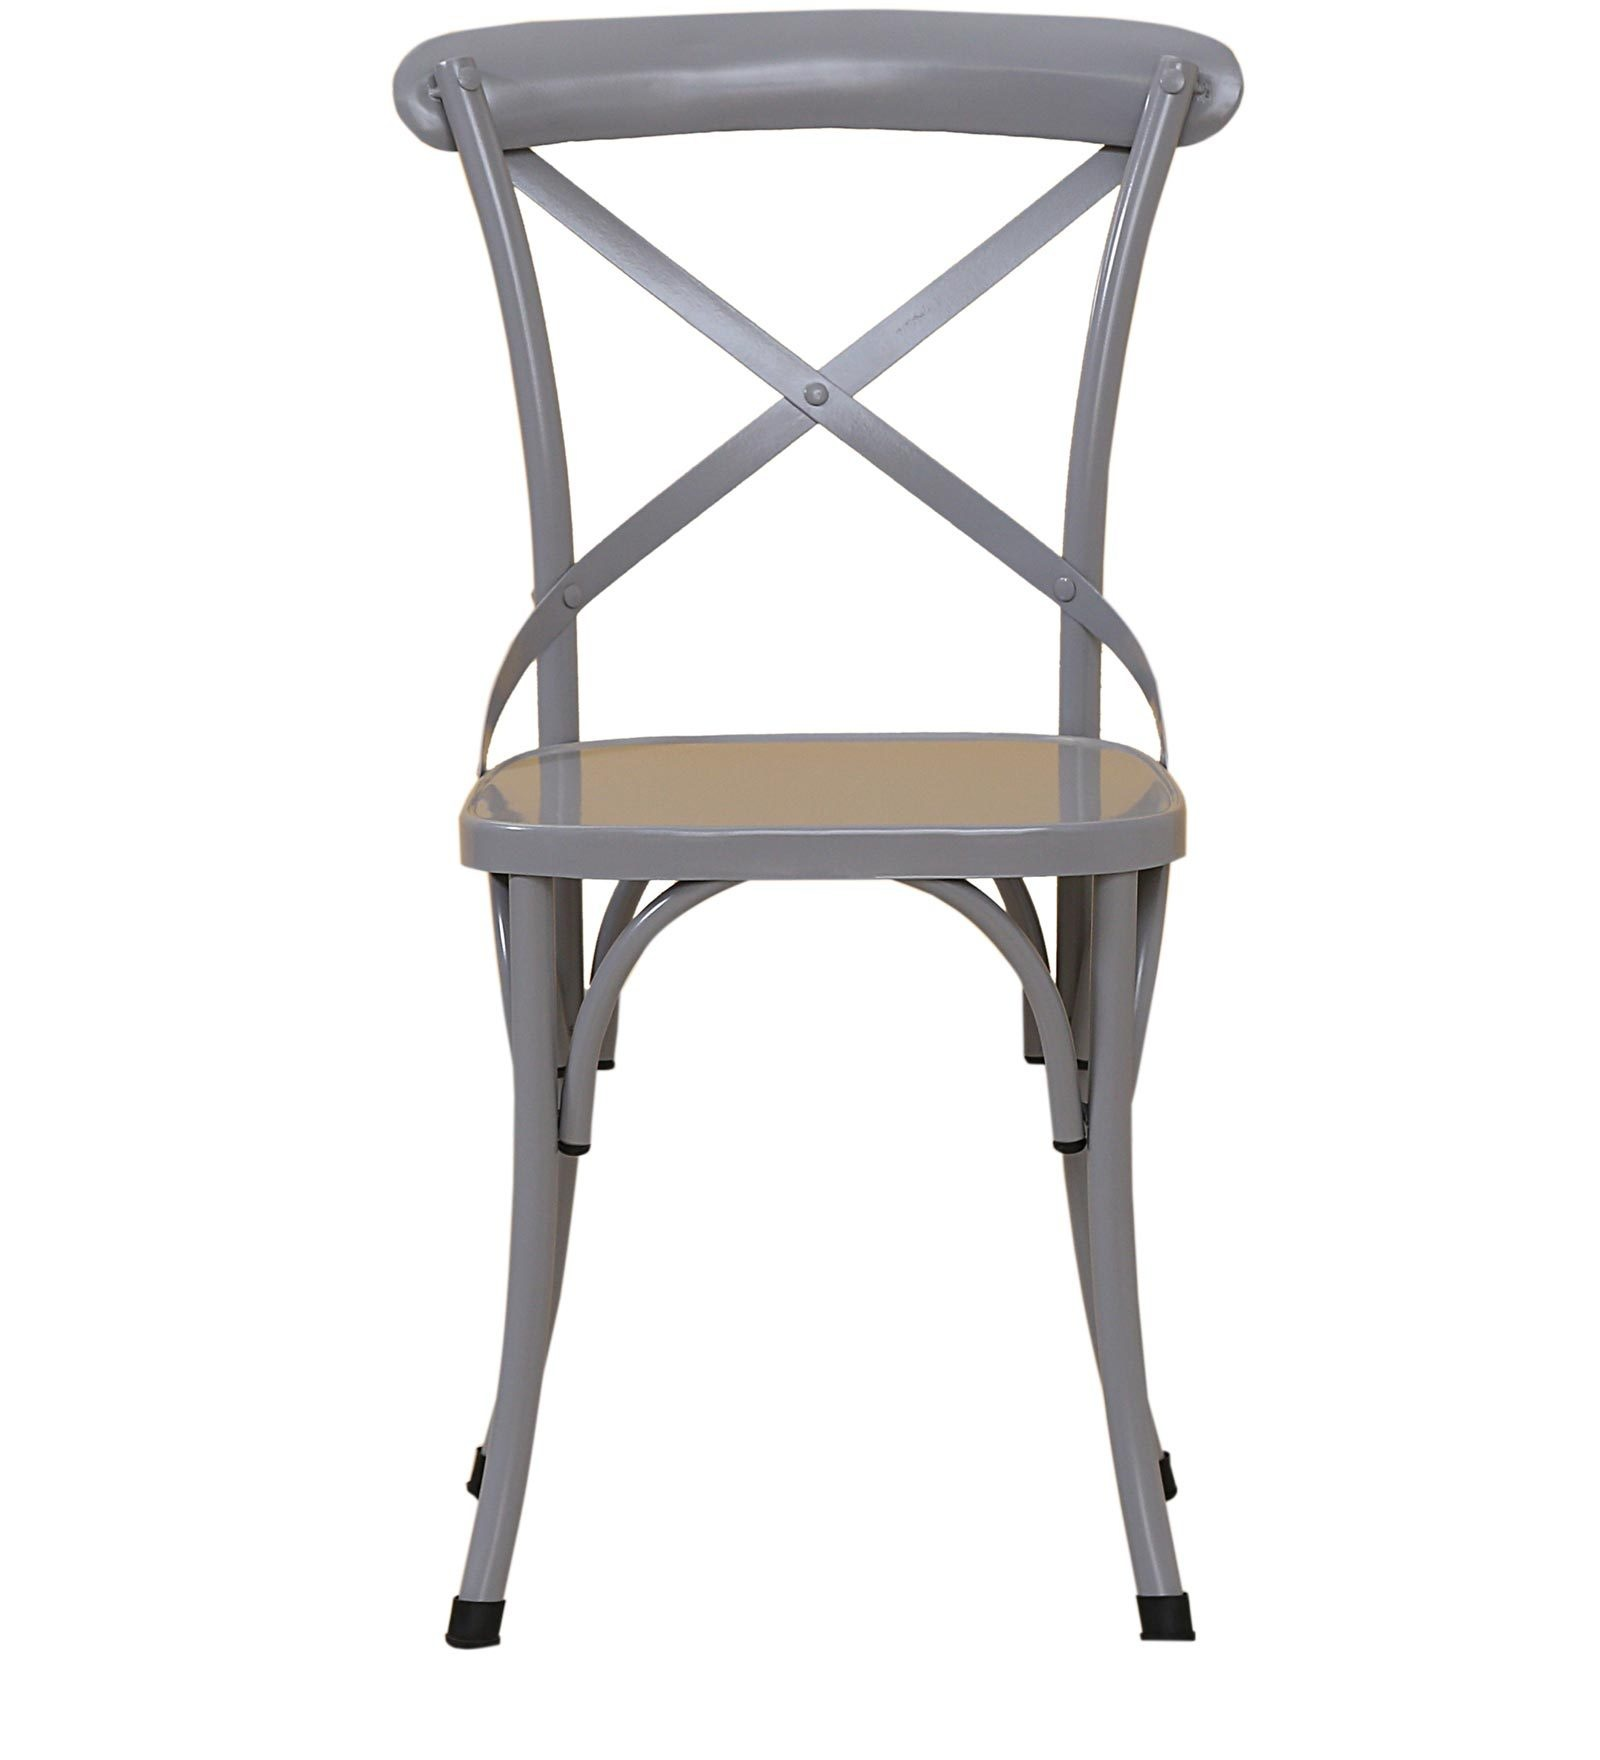Fabian Metal Chair in Steel Grey Color by Bohemiana: (346, 2, 1260, 1674)
